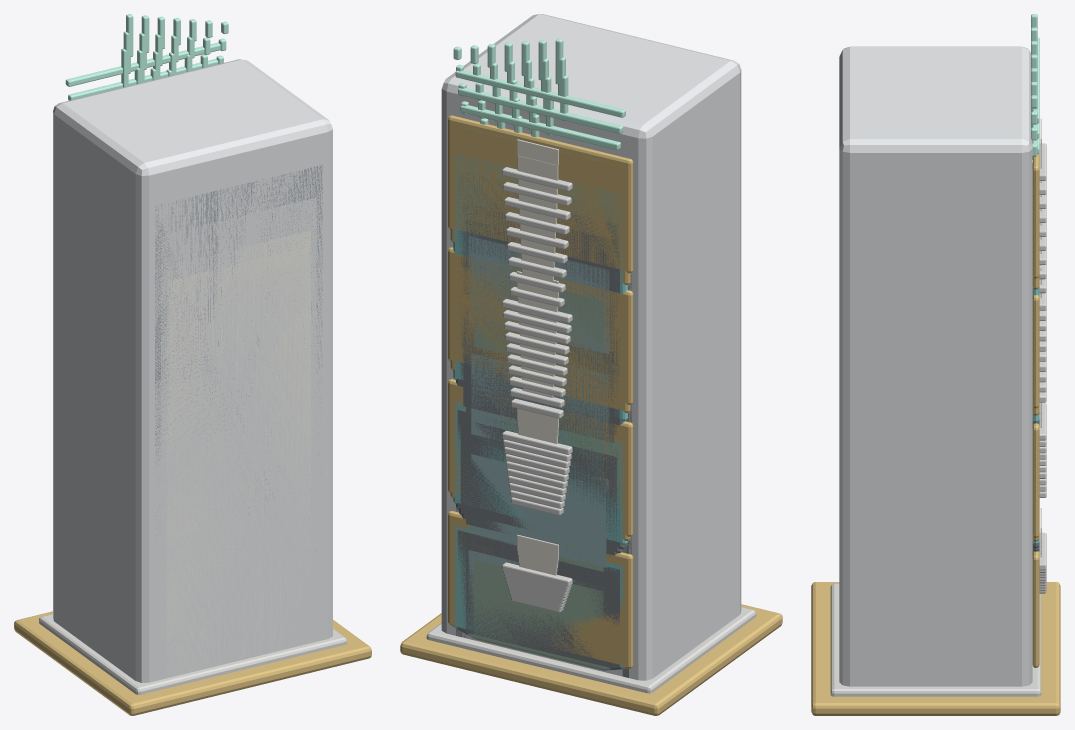
Rendered from Gear15.fbx.
The picture shows the model from 3 angles, left to right: view 1: azimuth 30°, elevation 25°; view 2: azimuth 150°, elevation 25°; view 3: azimuth 270°, elevation 25°; orthographic projection. The views are drawn at different scales.
Visible parts, largest first — view 1: Gear15_V10_Platinum, Gear15_V4_Linen, Gear15_V6_Platinum, Gear15_V3_Linen, Gear15_V5_Platinum, Gear15_V10_Gold, Gear15_V8_Graphite, Gear15_V9_Gold, Gear15_V10_Chrome, Gear15_V10_Glow, Gear15_V2_Platinum, Gear15_V9_Glow (+4 smaller); view 2: Gear15_V10_Platinum, Gear15_V10_Gold, Gear15_V9_Gold, Gear15_V2_Blue, Gear15_V1_Sage, Gear15_V8_Aqua, Gear15_V5_Graphite, Gear15_V6_Graphite, Gear15_V4_Graphite, Gear15_V3_Blue, Gear15_V10_Chrome, Gear15_V7_Graphite (+19 smaller); view 3: Gear15_V10_Platinum, Gear15_V10_Gold, Gear15_V10_Chrome, Gear15_V9_Gold, Gear15_V10_Glow, Gear15_V9_Chrome, Gear15_V6_Chrome, Gear15_V8_Chrome, Gear15_V5_Chrome, Gear15_V4_Chrome.
Part boxes in pixels (x1,y1,x2,y2): Gear15_V10_Platinum: [53, 59, 332, 682]; Gear15_V4_Linen: [166, 230, 310, 677]; Gear15_V6_Platinum: [161, 197, 316, 679]; Gear15_V3_Linen: [169, 247, 307, 544]; Gear15_V5_Platinum: [163, 228, 313, 678]; Gear15_V10_Gold: [14, 619, 371, 715]; Gear15_V8_Graphite: [155, 165, 322, 529]; Gear15_V9_Gold: [20, 611, 366, 714]; Gear15_V10_Chrome: [39, 616, 346, 694]; Gear15_V10_Glow: [65, 14, 228, 86]; Gear15_V2_Platinum: [172, 264, 305, 530]; Gear15_V9_Glow: [68, 31, 226, 100]; Gear15_V10_Platinum: [441, 14, 741, 680]; Gear15_V10_Gold: [400, 115, 782, 715]; Gear15_V9_Gold: [405, 137, 774, 708]; Gear15_V2_Blue: [470, 252, 608, 670]; Gear15_V1_Sage: [473, 270, 605, 670]; Gear15_V8_Aqua: [453, 153, 627, 669]; Gear15_V5_Graphite: [461, 204, 617, 669]; Gear15_V6_Graphite: [459, 193, 622, 669]; Gear15_V4_Graphite: [465, 219, 614, 670]; Gear15_V3_Blue: [468, 236, 611, 670]; Gear15_V10_Chrome: [426, 167, 756, 693]; Gear15_V7_Graphite: [456, 172, 628, 677]; Gear15_V10_Platinum: [839, 46, 1032, 686]; Gear15_V10_Gold: [811, 153, 1060, 715]; Gear15_V10_Chrome: [830, 143, 1046, 696]; Gear15_V9_Gold: [811, 276, 1059, 701]; Gear15_V10_Glow: [1031, 14, 1039, 123]; Gear15_V9_Chrome: [830, 180, 1046, 689]; Gear15_V6_Chrome: [830, 222, 1046, 683]; Gear15_V8_Chrome: [830, 194, 1046, 688]; Gear15_V5_Chrome: [830, 236, 1046, 681]; Gear15_V4_Chrome: [830, 250, 1046, 646].
Size of the model in its own units: 84 by 199 by 71.
